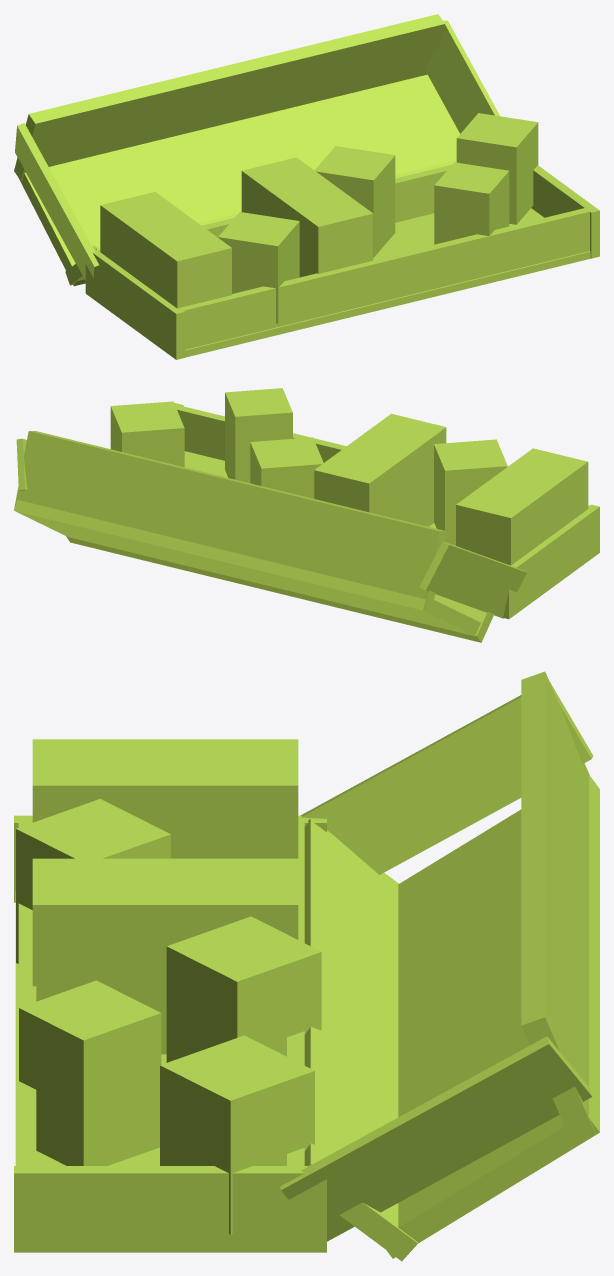
File: eggshell_convex.fbx
3 views of the same model, one above another, from view 1: azimuth 30°, elevation 25°; view 2: azimuth 150°, elevation 25°; view 3: azimuth 270°, elevation 25° (orthographic). The views are drawn at different scales.
Parts seen in each view (by area): view 1: eggshell_convex.001, eggshell_convex.002, eggshell_convex.006, eggshell_convex.010, eggshell_convex.011, eggshell_convex, eggshell_convex.015, eggshell_convex.014, eggshell_convex.012, eggshell_convex.009, eggshell_convex.013, eggshell_convex.004 (+4 smaller); view 2: eggshell_convex.002, eggshell_convex.001, eggshell_convex.010, eggshell_convex.011, eggshell_convex.005, eggshell_convex.009, eggshell_convex.014, eggshell_convex.012, eggshell_convex.015, eggshell_convex.013, eggshell_convex.003, eggshell_convex.006 (+2 smaller); view 3: eggshell_convex.001, eggshell_convex.011, eggshell_convex.003, eggshell_convex.008, eggshell_convex.010, eggshell_convex.002, eggshell_convex.014, eggshell_convex.004, eggshell_convex.005, eggshell_convex.015, eggshell_convex.013, eggshell_convex.012 (+3 smaller).
Boxes of the visible parts, left/top/right/bottom form: eggshell_convex.001: left=18, top=74, right=459, bottom=286; eggshell_convex.002: left=14, top=14, right=444, bottom=180; eggshell_convex.006: left=173, top=207, right=592, bottom=349; eggshell_convex.010: left=100, top=192, right=231, bottom=308; eggshell_convex.011: left=241, top=157, right=373, bottom=277; eggshell_convex: left=185, top=208, right=590, bottom=357; eggshell_convex.015: left=456, top=113, right=538, bottom=224; eggshell_convex.014: left=434, top=162, right=509, bottom=244; eggshell_convex.012: left=218, top=212, right=299, bottom=323; eggshell_convex.009: left=85, top=245, right=184, bottom=359; eggshell_convex.013: left=314, top=146, right=395, bottom=257; eggshell_convex.004: left=425, top=20, right=499, bottom=133; eggshell_convex.002: left=14, top=431, right=446, bottom=610; eggshell_convex.001: left=14, top=500, right=480, bottom=636; eggshell_convex.010: left=456, top=448, right=588, bottom=565; eggshell_convex.011: left=314, top=413, right=446, bottom=526; eggshell_convex.005: left=419, top=541, right=526, bottom=618; eggshell_convex.009: left=503, top=504, right=599, bottom=619; eggshell_convex.014: left=225, top=388, right=292, bottom=482; eggshell_convex.012: left=434, top=439, right=507, bottom=545; eggshell_convex.015: left=110, top=401, right=184, bottom=467; eggshell_convex.013: left=250, top=437, right=323, bottom=498; eggshell_convex.003: left=66, top=536, right=494, bottom=642; eggshell_convex.006: left=176, top=405, right=594, bottom=510; eggshell_convex.001: left=386, top=775, right=599, bottom=1258; eggshell_convex.011: left=32, top=858, right=298, bottom=1054; eggshell_convex.003: left=304, top=818, right=417, bottom=1261; eggshell_convex.008: left=14, top=1166, right=326, bottom=1252; eggshell_convex.010: left=32, top=739, right=298, bottom=858; eggshell_convex.002: left=521, top=671, right=595, bottom=1142; eggshell_convex.014: left=19, top=980, right=161, bottom=1165; eggshell_convex.004: left=280, top=1036, right=592, bottom=1241; eggshell_convex.005: left=300, top=681, right=593, bottom=874; eggshell_convex.015: left=160, top=1035, right=314, bottom=1234; eggshell_convex.013: left=166, top=916, right=321, bottom=1062; eggshell_convex.012: left=16, top=799, right=170, bottom=963.
Size of the model in its own units: 10 by 6.8 by 3.13.
